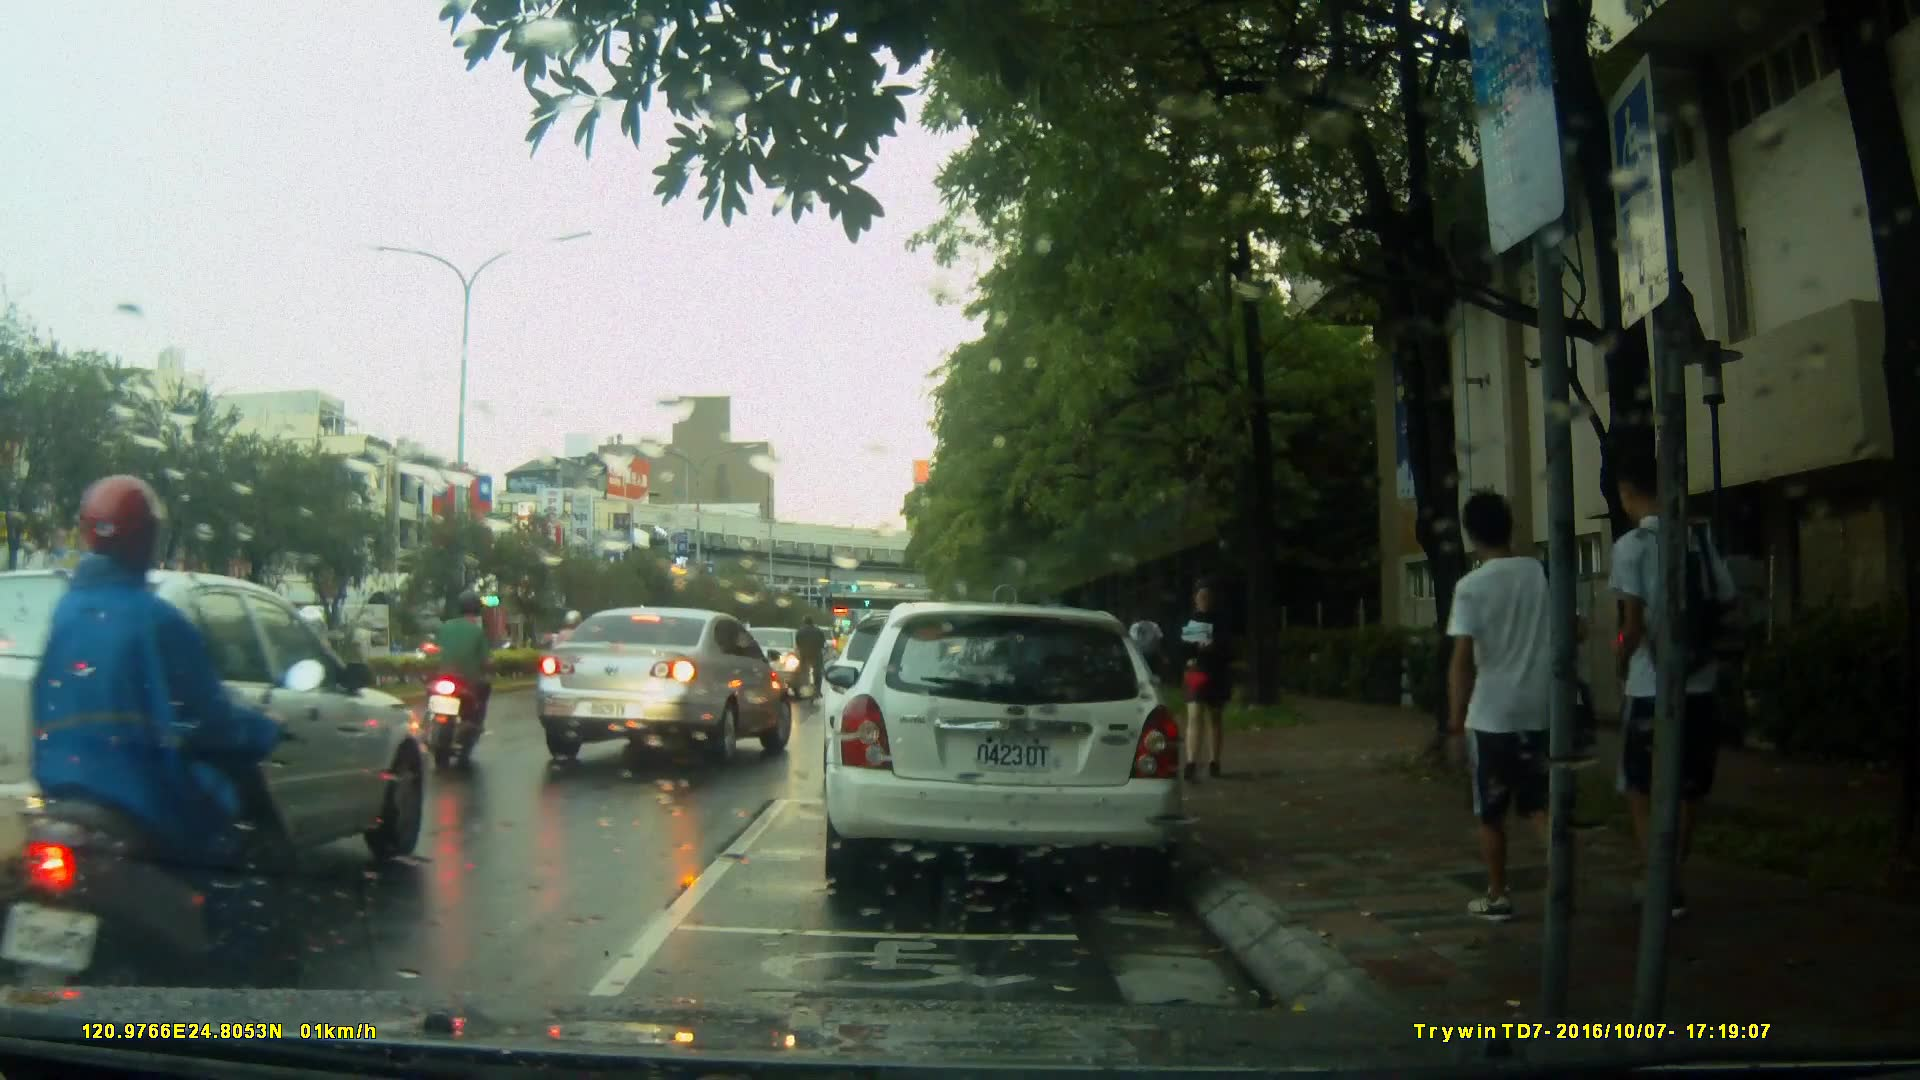pedestrian: (1438, 473, 1599, 935), (1594, 444, 1724, 930), (1173, 567, 1245, 789), (1125, 604, 1167, 732)
rider: (4, 475, 322, 1008), (428, 585, 509, 765), (546, 605, 589, 729), (791, 612, 824, 710)
vehicle: (1, 564, 436, 932), (820, 602, 1188, 898), (532, 605, 799, 770), (717, 627, 821, 699)
